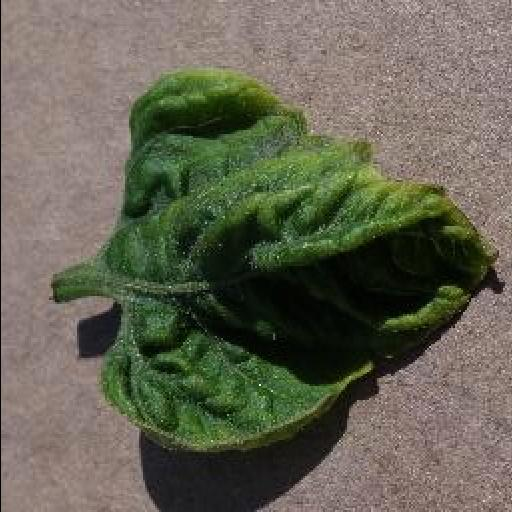disease_tomato: (102, 70, 500, 454)
